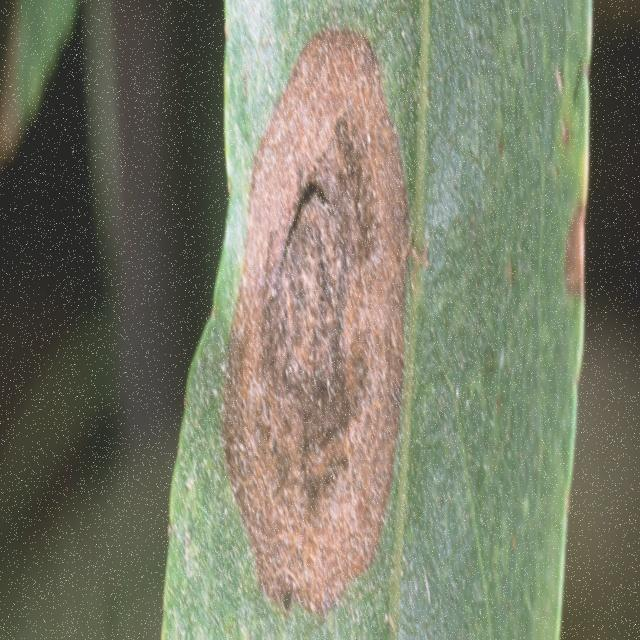leaf_spot: (180, 0, 587, 640)
